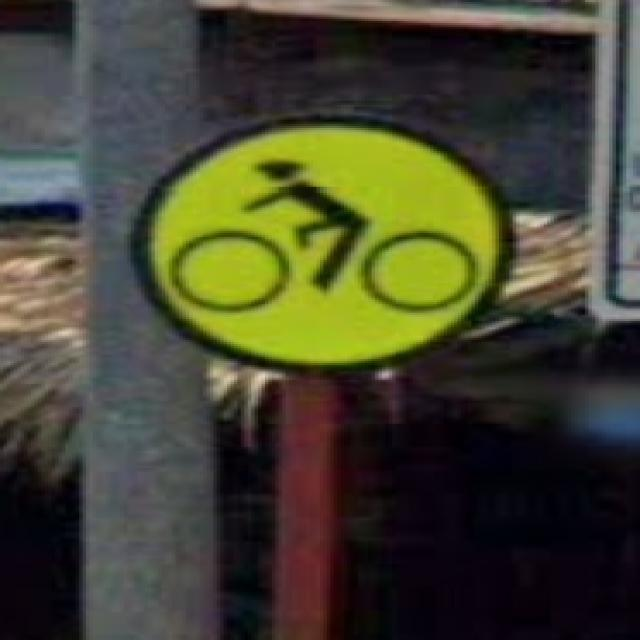bike lane: (134, 112, 513, 370)
